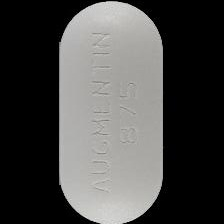68788-9961: (0, 0, 224, 224)
